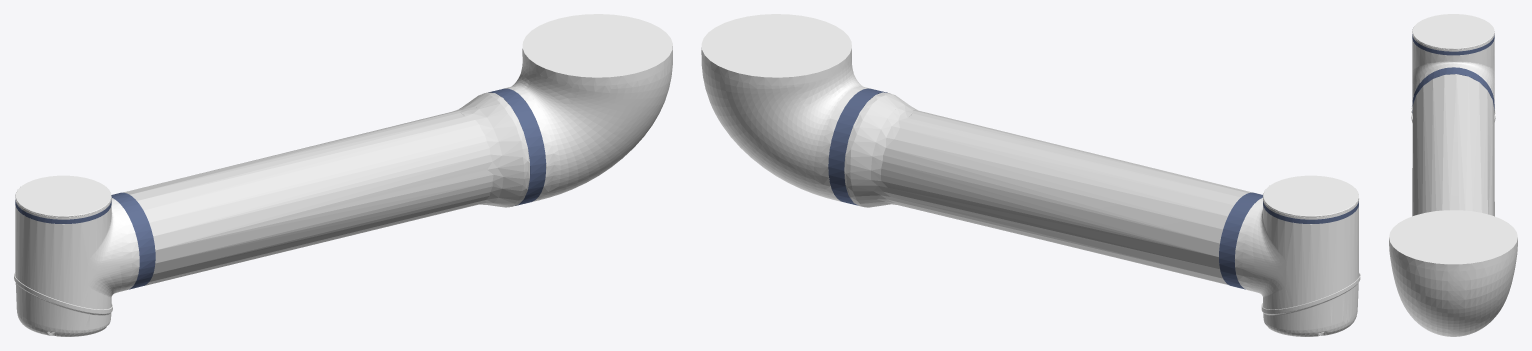
File: forearm.dae
The picture shows the model from 3 angles, left to right: view 1: azimuth 30°, elevation 25°; view 2: azimuth 150°, elevation 25°; view 3: azimuth 270°, elevation 25°; orthographic projection. The views are drawn at different scales.
Visible parts, largest first — view 1: cs625_link3_part3, cs625_link3_part1, cs625_link3_part2; view 2: cs625_link3_part3, cs625_link3_part1, cs625_link3_part2; view 3: cs625_link3_part1, cs625_link3_part3, cs625_link3_part2.
Boxes of the visible parts, bbox=[...] form: cs625_link3_part3: bbox=[123, 92, 529, 285]; cs625_link3_part1: bbox=[14, 14, 672, 336]; cs625_link3_part2: bbox=[15, 88, 546, 289]; cs625_link3_part3: bbox=[844, 92, 1252, 285]; cs625_link3_part1: bbox=[701, 14, 1360, 336]; cs625_link3_part2: bbox=[828, 88, 1358, 289]; cs625_link3_part1: bbox=[1389, 14, 1517, 336]; cs625_link3_part3: bbox=[1412, 74, 1494, 216]; cs625_link3_part2: bbox=[1412, 34, 1494, 112].
Bounding box in the file's own units: 0.7479 × 0.152 × 0.1668.
